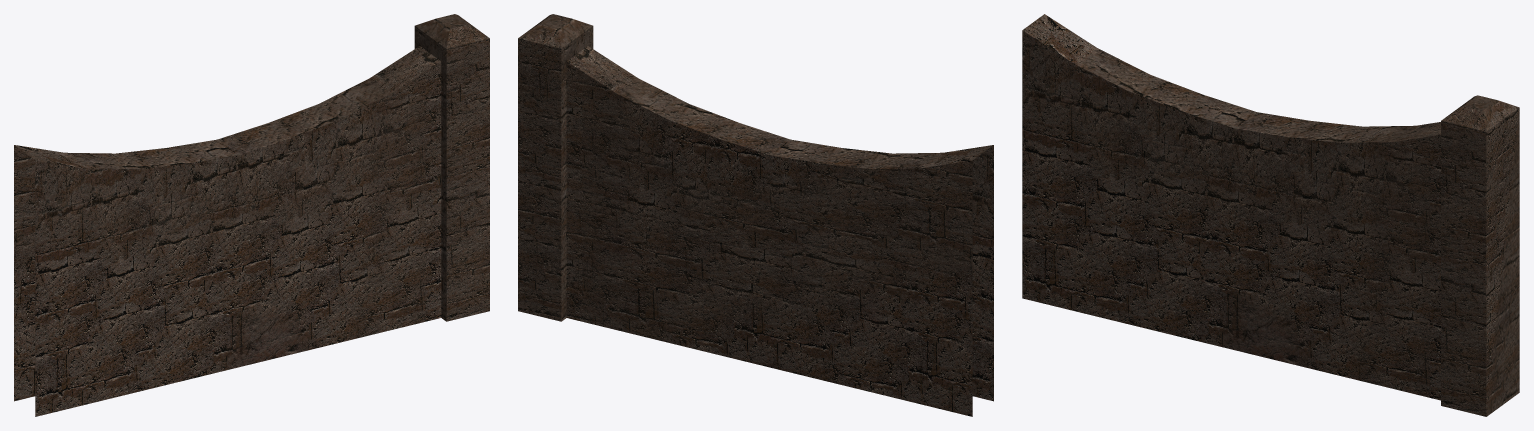
File: MageWall.fbx
3 renders of one model, left to right at view 1: azimuth 30°, elevation 25°; view 2: azimuth 150°, elevation 25°; view 3: azimuth 330°, elevation 25°, orthographic. The views are drawn at different scales.
Visible parts, largest first — view 1: Mesh; view 2: Mesh; view 3: Mesh.
Boxes of the visible parts, x1=… form: Mesh: x1=14, y1=14, x2=489, y2=416; Mesh: x1=518, y1=14, x2=993, y2=416; Mesh: x1=1022, y1=14, x2=1519, y2=416.
Bounding box in the file's own units: 6.07 × 3.66 × 0.7424.
